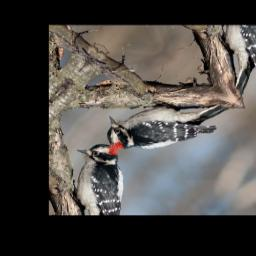Woodpecker: (91, 58, 236, 182)
